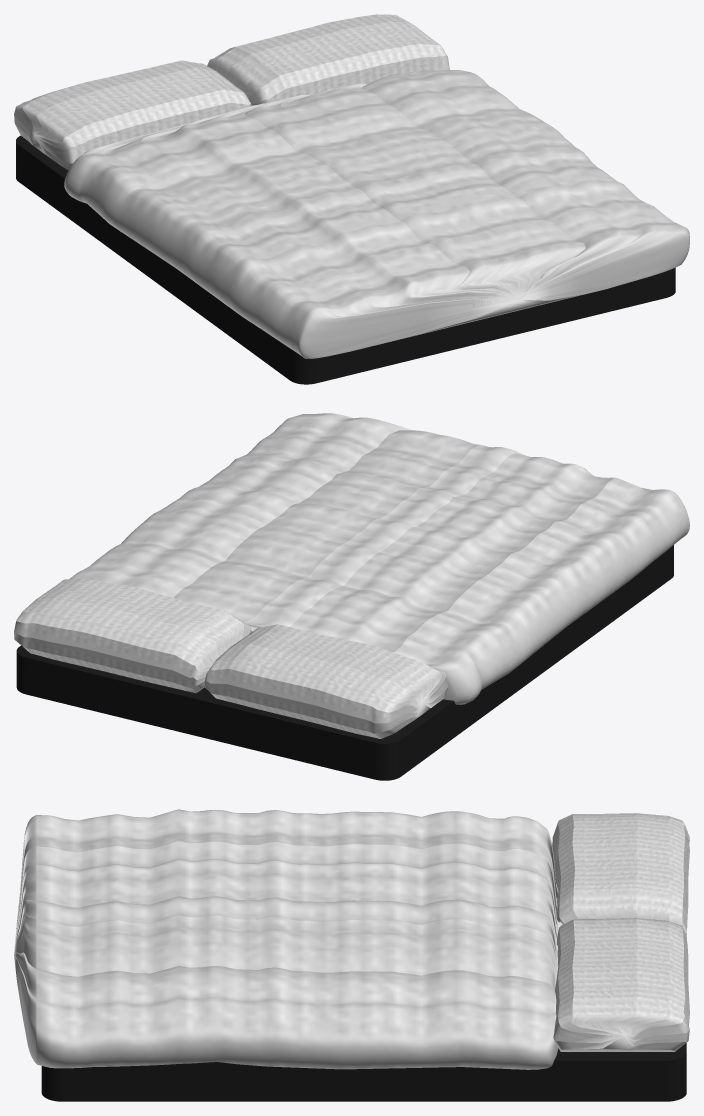
The model's file is futon.obj.
The picture shows the model from 3 angles, top to bottom: view 1: azimuth 30°, elevation 25°; view 2: azimuth 150°, elevation 25°; view 3: azimuth 270°, elevation 25°; orthographic projection. The views are drawn at different scales.
Visible parts, largest first — view 1: DUVET1_1_1, BED_2_2, PILLOW_W_3_3, PILLOW_E_4_4; view 2: DUVET1_1_1, BED_2_2, PILLOW_W_3_3, PILLOW_E_4_4; view 3: DUVET1_1_1, BED_2_2, PILLOW_E_4_4, PILLOW_W_3_3.
Part boxes in pixels (x1,y1,x2,y2): DUVET1_1_1: (64, 70, 689, 358); BED_2_2: (16, 135, 675, 384); PILLOW_W_3_3: (14, 60, 251, 170); PILLOW_E_4_4: (207, 14, 449, 105); DUVET1_1_1: (69, 413, 689, 704); BED_2_2: (16, 545, 673, 780); PILLOW_W_3_3: (204, 624, 447, 738); PILLOW_E_4_4: (14, 578, 250, 693); DUVET1_1_1: (14, 809, 562, 1069); BED_2_2: (41, 854, 686, 1101); PILLOW_E_4_4: (553, 918, 689, 1051); PILLOW_W_3_3: (552, 813, 689, 935).
Bounding box in the file's own units: 222 × 44.04 × 284.
